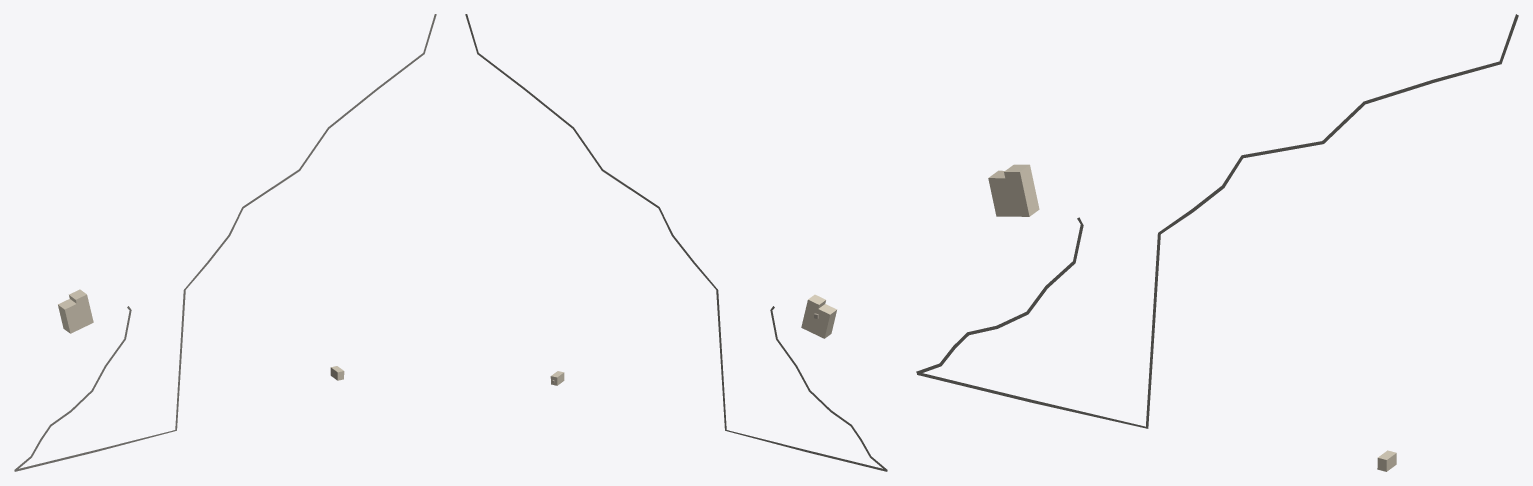
Rendered from historic-palestine-11_37_3529_3311.glb.
3 views of the same model, side by side, from view 1: azimuth 30°, elevation 25°; view 2: azimuth 150°, elevation 25°; view 3: azimuth 330°, elevation 25° (orthographic). The views are drawn at different scales.
Parts seen in each view (by area): view 1: Road .001, Building_.001, Road; view 2: Road .001, Building_.001, Road; view 3: Road .001, Building_.001, Road.
Boxes of the visible parts, left/top/right/bottom form: Road .001: left=14, top=14, right=436, bottom=471; Building_.001: left=58, top=289, right=93, bottom=333; Road: left=14, top=306, right=131, bottom=470; Road .001: left=465, top=14, right=887, bottom=471; Building_.001: left=801, top=294, right=836, bottom=338; Road: left=770, top=306, right=887, bottom=470; Road .001: left=917, top=14, right=1518, bottom=428; Building_.001: left=988, top=164, right=1039, bottom=216; Road: left=916, top=217, right=1083, bottom=374.
Bounding box in the file's own units: 261 × 210 × 8.7.
